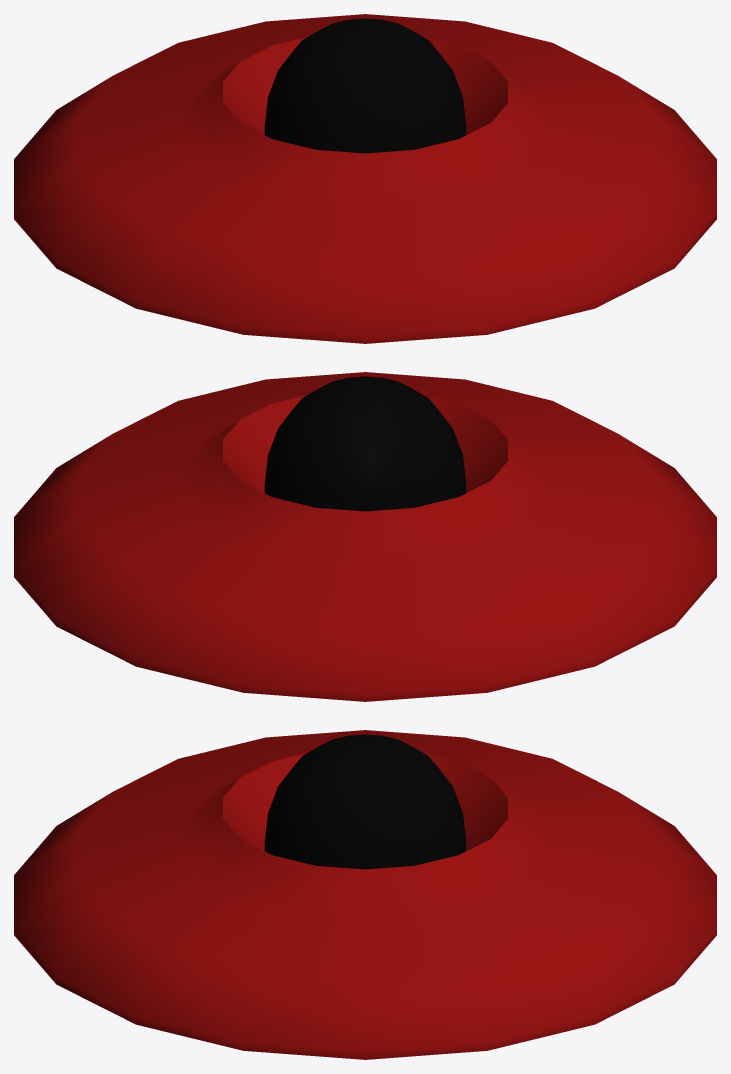
Rendered from EnemyShip.dae.
3 renders of one model, top to bottom at view 1: azimuth 30°, elevation 25°; view 2: azimuth 150°, elevation 25°; view 3: azimuth 270°, elevation 25°, orthographic.
Visible parts, largest first — view 1: Sphere; view 2: Sphere; view 3: Sphere.
Boxes of the visible parts, x1,y1,x2,y2 form: Sphere: (14, 14, 716, 343); Sphere: (14, 372, 716, 701); Sphere: (14, 730, 716, 1059).
Size of the model in its own units: 2.77 by 2.73 by 0.9385.
Materials: 1 (1 with a texture image).
